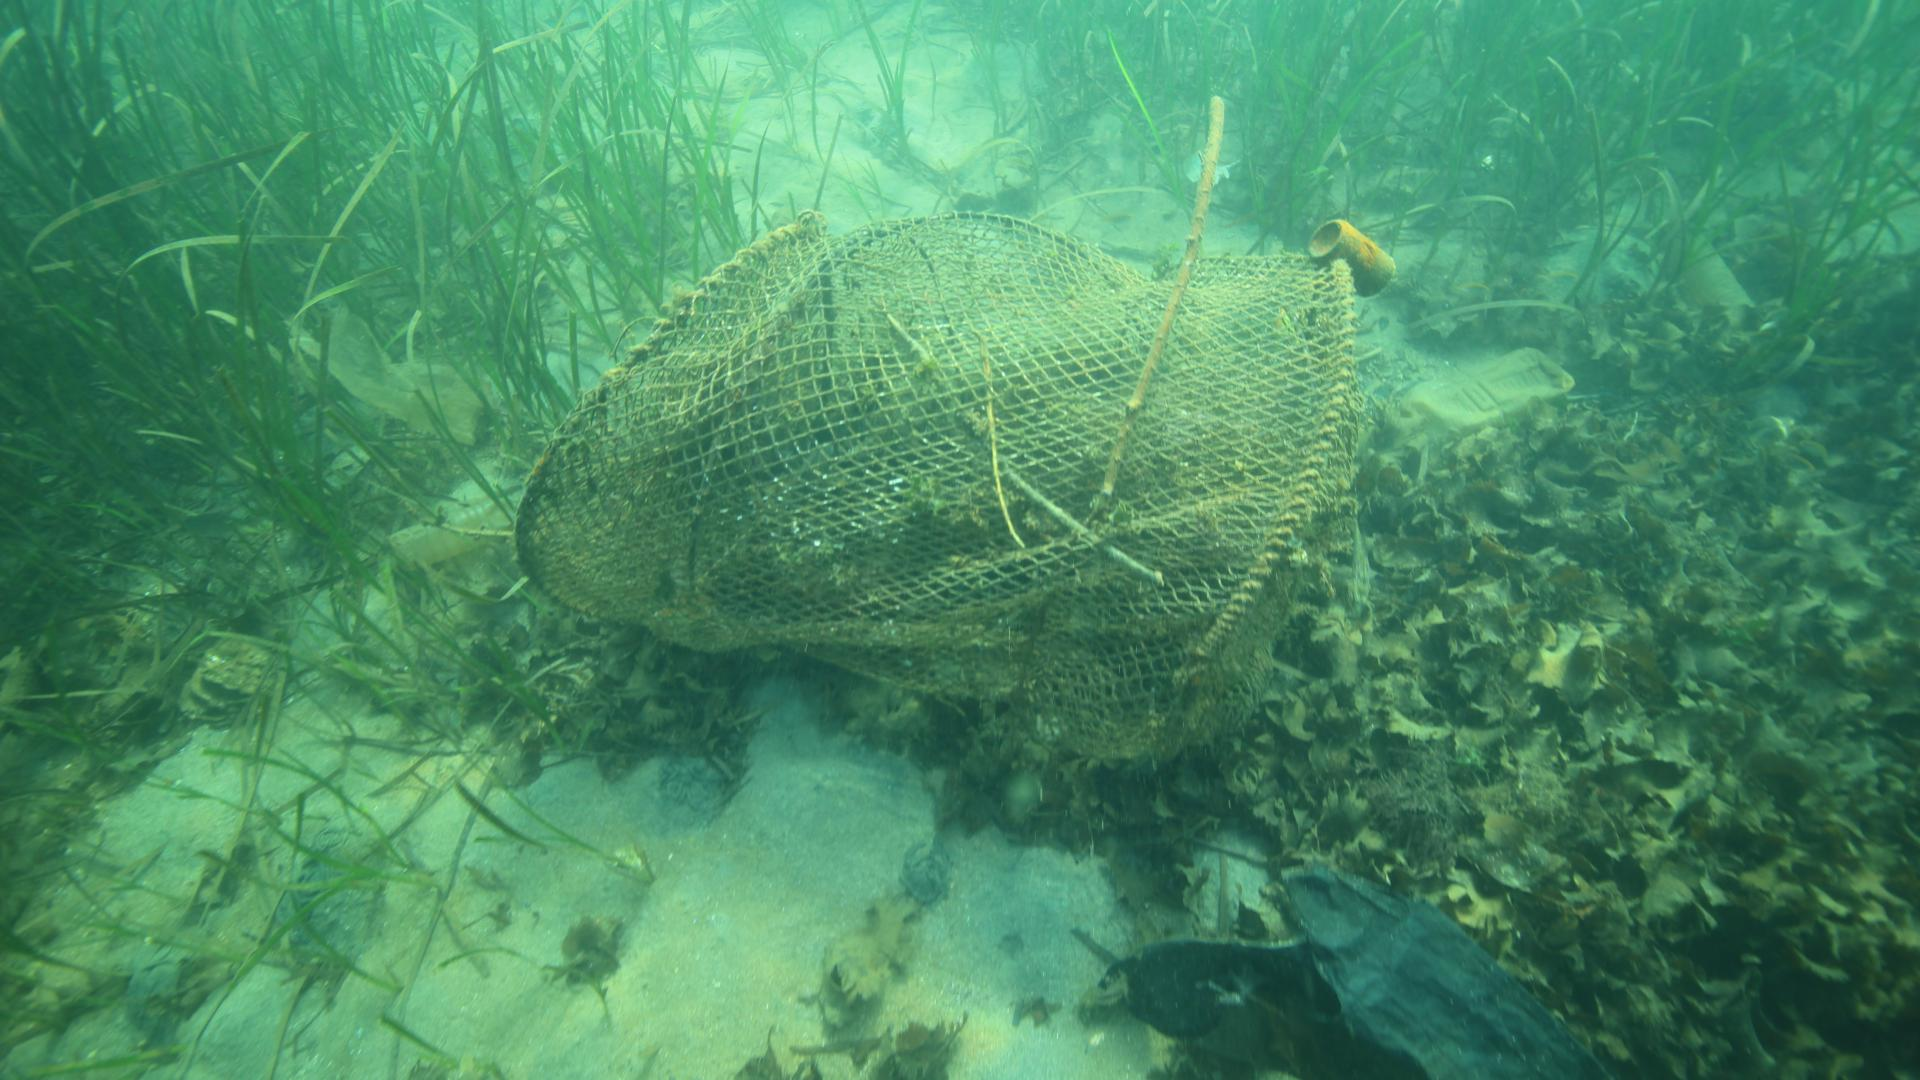spring fish trap: (506, 204, 1361, 760)
